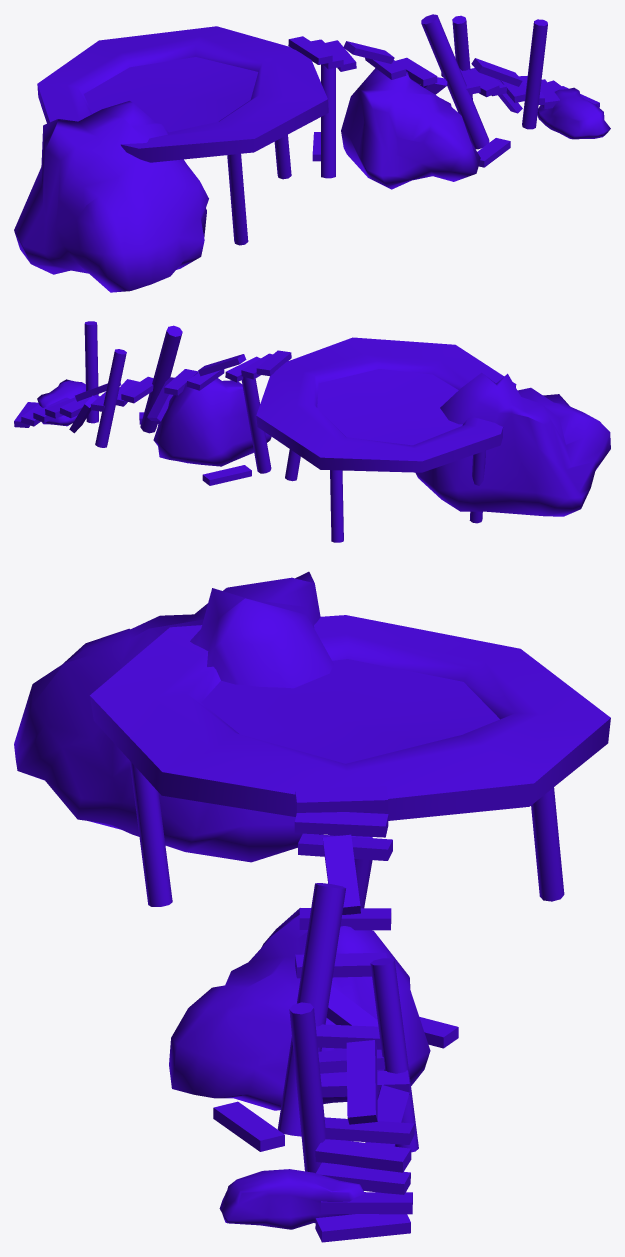
Rendered from Table_mesh.fbx.
3 renders of one model, top to bottom at view 1: azimuth 30°, elevation 25°; view 2: azimuth 150°, elevation 25°; view 3: azimuth 270°, elevation 25°, orthographic. The views are drawn at different scales.
Parts seen in each view (by area): view 1: Table; view 2: Table; view 3: Table.
Part boxes in pixels (<box>): Table: <box>14,14,610,292</box>; Table: <box>14,321,610,542</box>; Table: <box>14,571,610,1242</box>.
Bounding box in the file's own units: 23.74 × 5.68 × 12.08.
